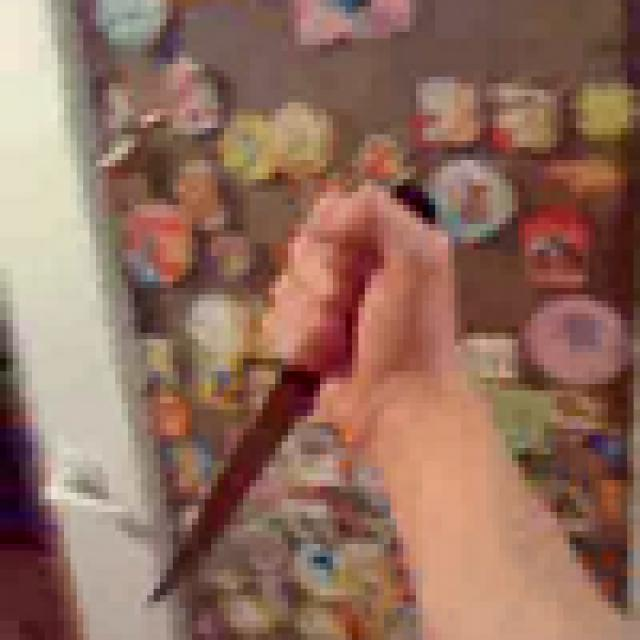Weapons: (149, 175, 440, 604)
